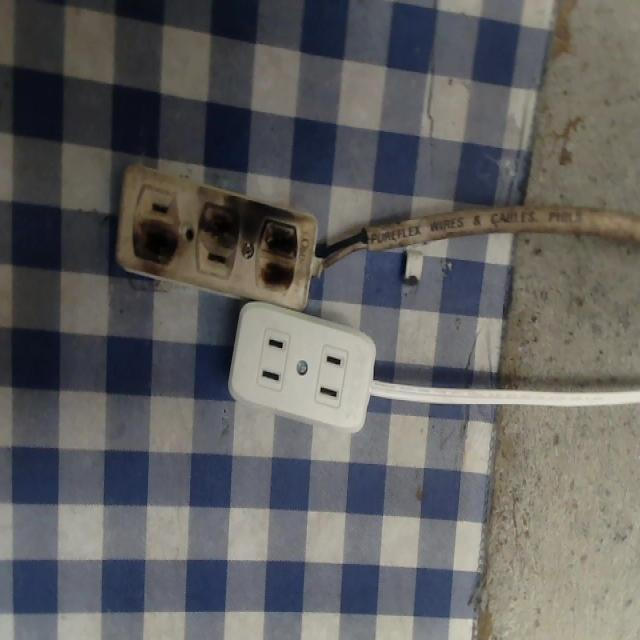-: (123, 215, 183, 282), (263, 202, 301, 298), (201, 188, 247, 252)
